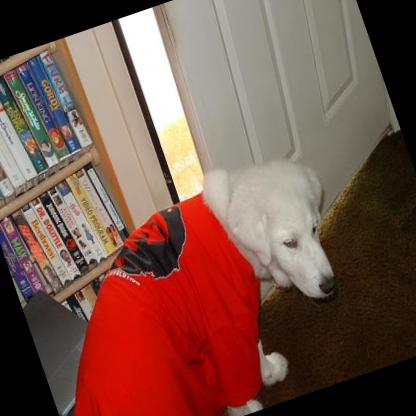Great_Pyrenees: (11, 135, 376, 416)
